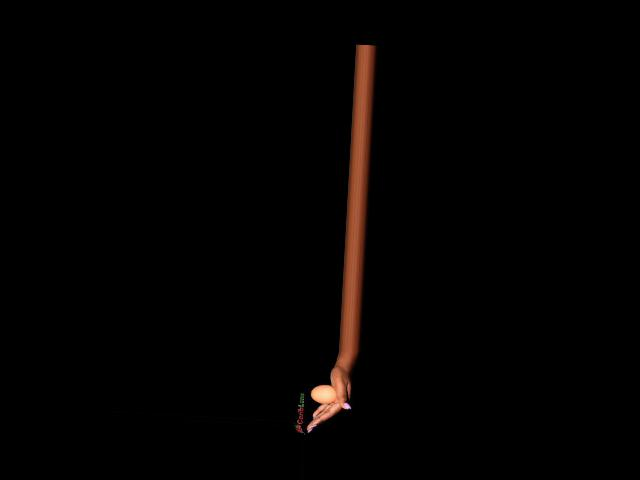egg: (310, 383, 337, 404)
